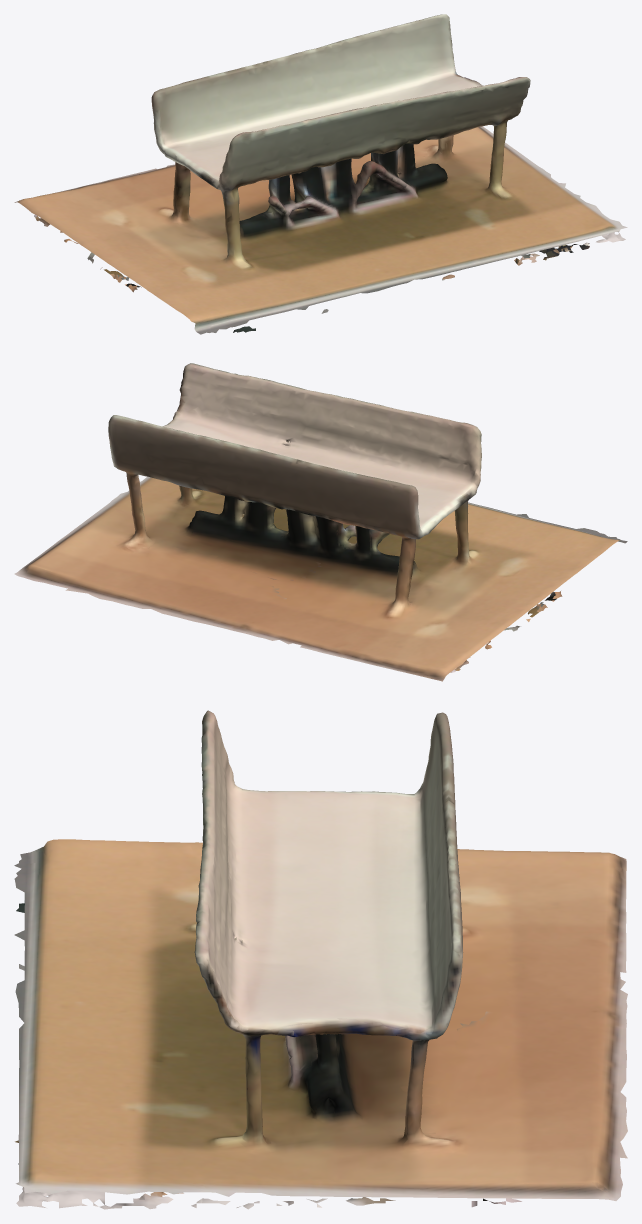
Rendered from riyadh.glb.
The picture shows the model from 3 angles, top to bottom: view 1: azimuth 30°, elevation 25°; view 2: azimuth 150°, elevation 25°; view 3: azimuth 270°, elevation 25°; orthographic projection. The views are drawn at different scales.
Parts seen in each view (by area): view 1: Model.001; view 2: Model.001; view 3: Model.001.
Boxes of the visible parts, x1,y1,x2,y2 form: Model.001: (14,14,627,334); Model.001: (14,363,627,681); Model.001: (14,710,627,1209).
Size of the model in its own units: 0.426 by 0.1361 by 0.3215.
1 material, 1 textured.
